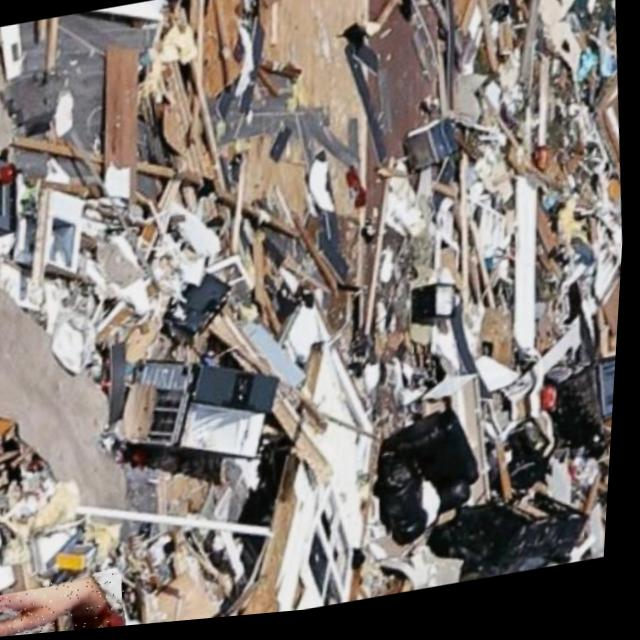Person in Rubble: (0, 573, 136, 638)
